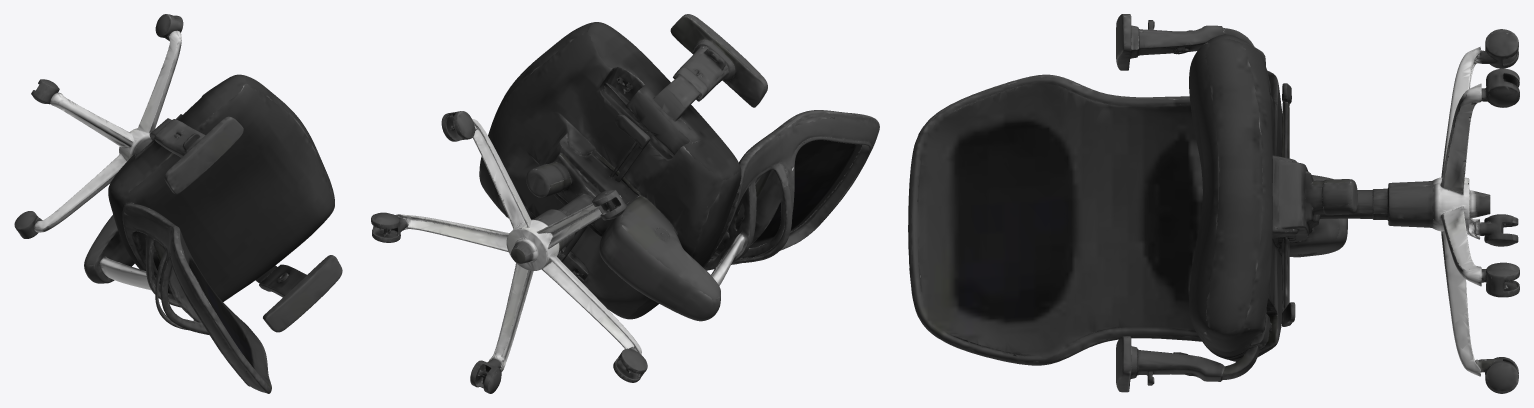
3 views of the same model, side by side, from view 1: azimuth 30°, elevation 25°; view 2: azimuth 150°, elevation 25°; view 3: azimuth 270°, elevation 25° (orthographic). The views are drawn at different scales.
Parts seen in each view (by area): view 1: Mesh_0.002; view 2: Mesh_0.002; view 3: Mesh_0.002.
Part boxes in pixels (left/top/right/bottom): Mesh_0.002: left=14, top=14, right=342, bottom=393; Mesh_0.002: left=371, top=14, right=879, bottom=393; Mesh_0.002: left=908, top=14, right=1519, bottom=393.
Size of the model in its own units: 0.0212 by 0.0209 by 0.0323.
Materials: 1 (1 with a texture image).
